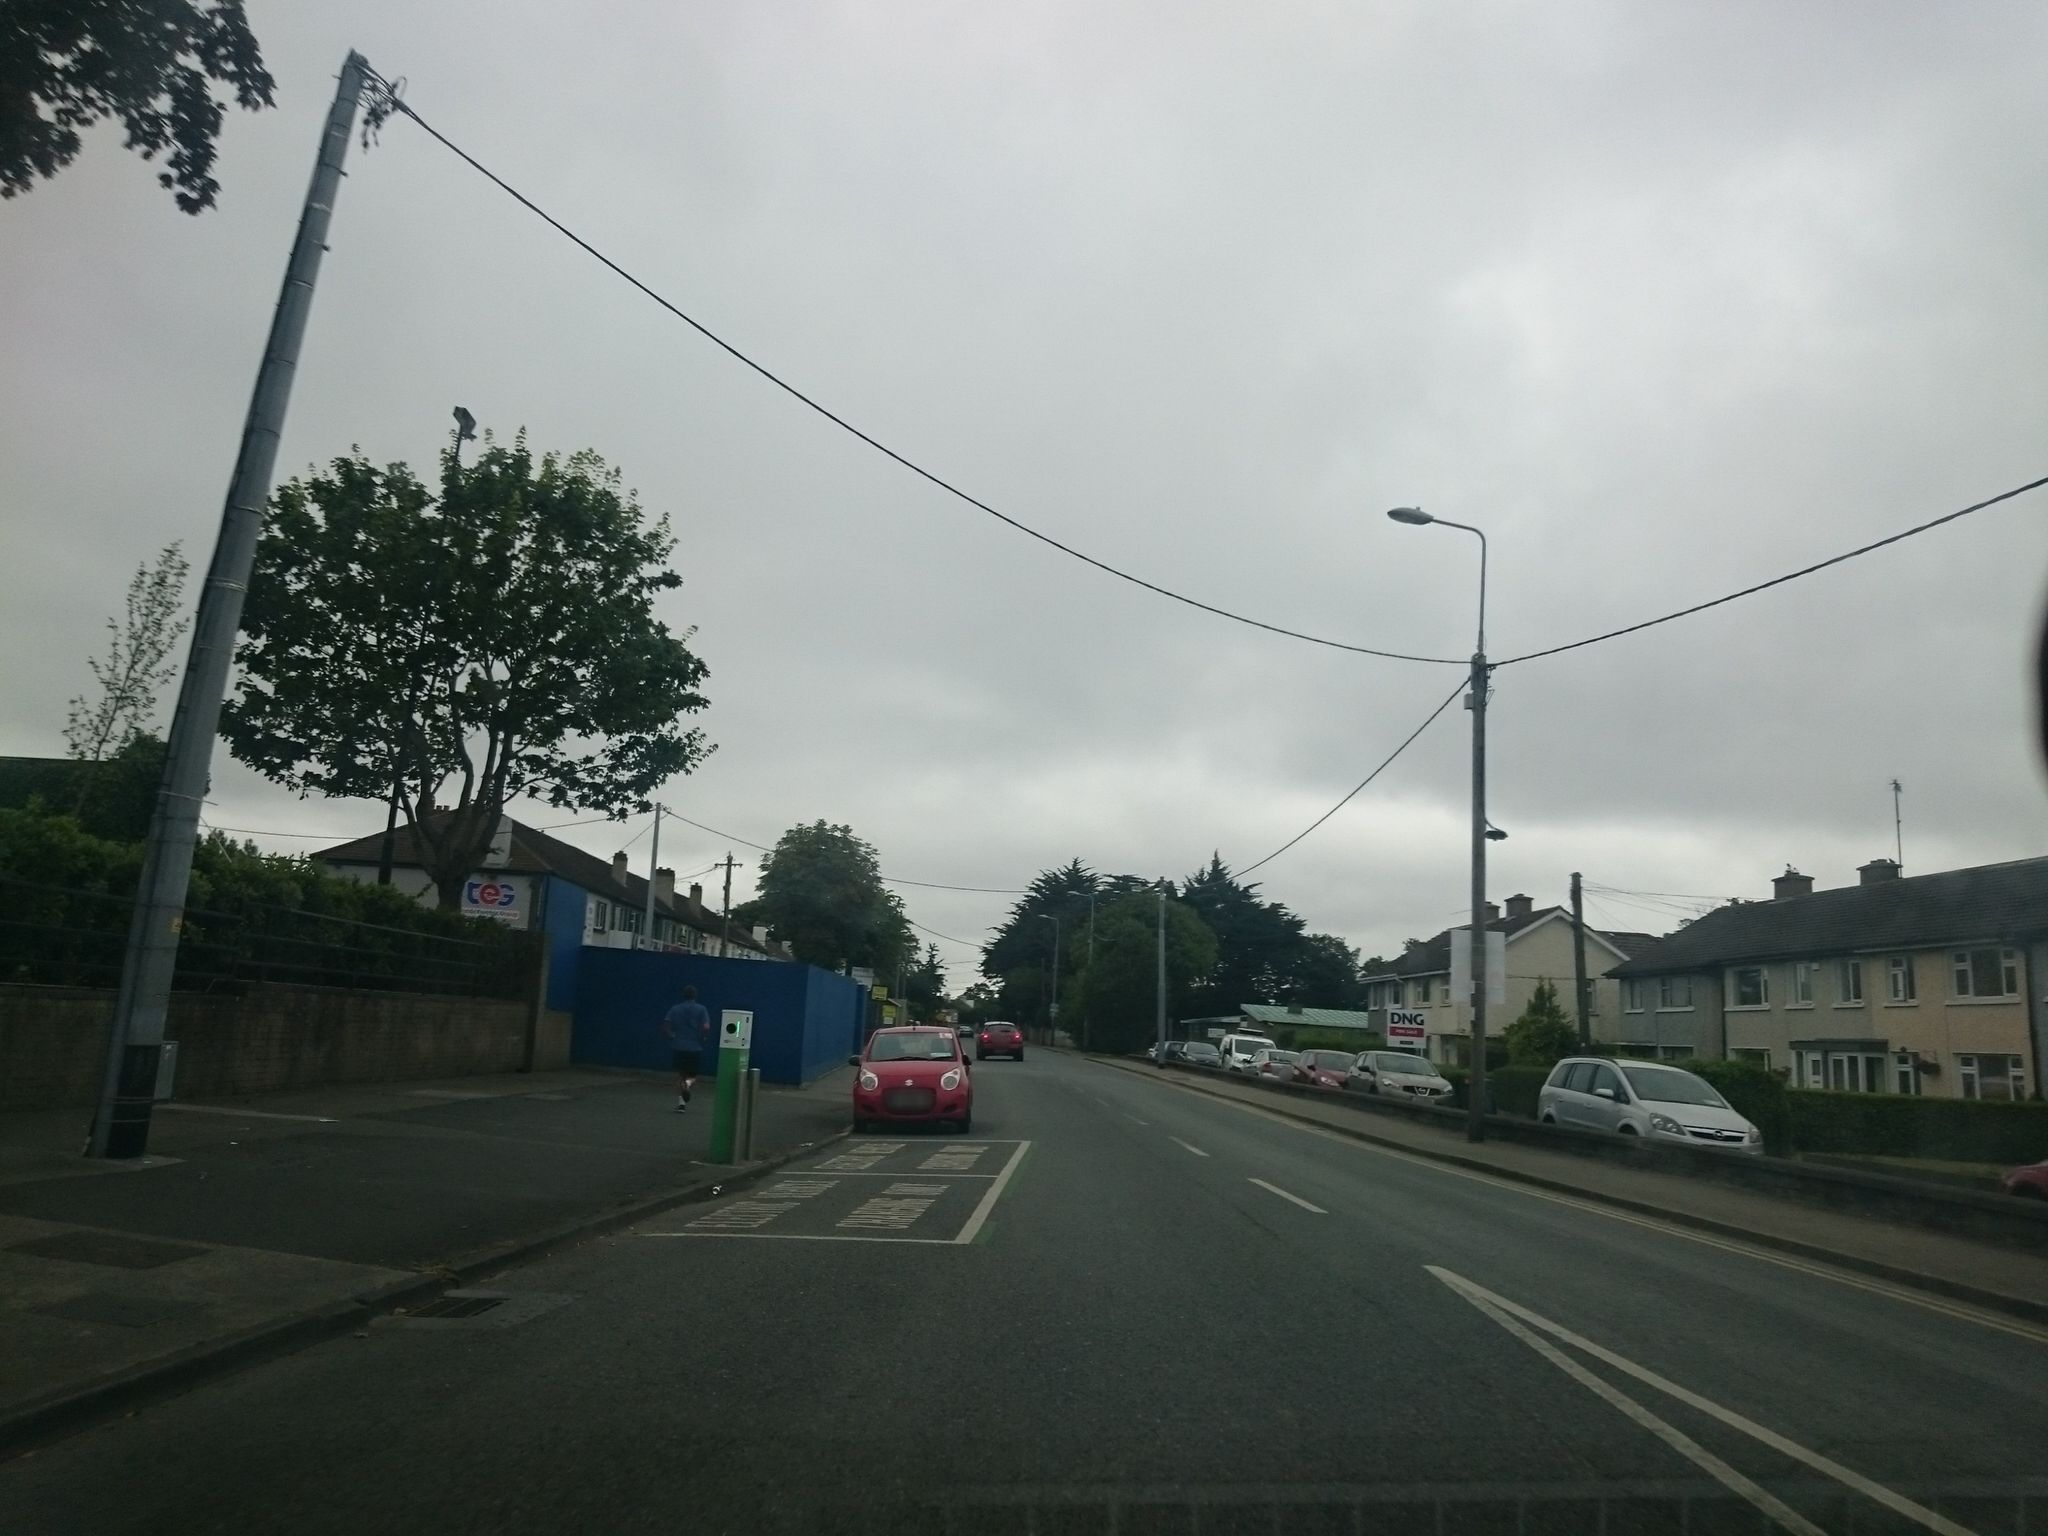property sign: (1369, 987, 1438, 1057)
